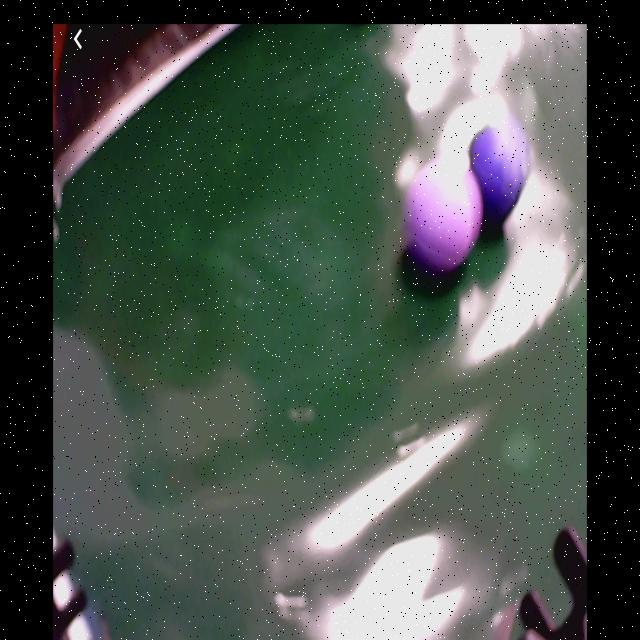ball: (408, 158, 485, 270), (470, 123, 527, 219)
